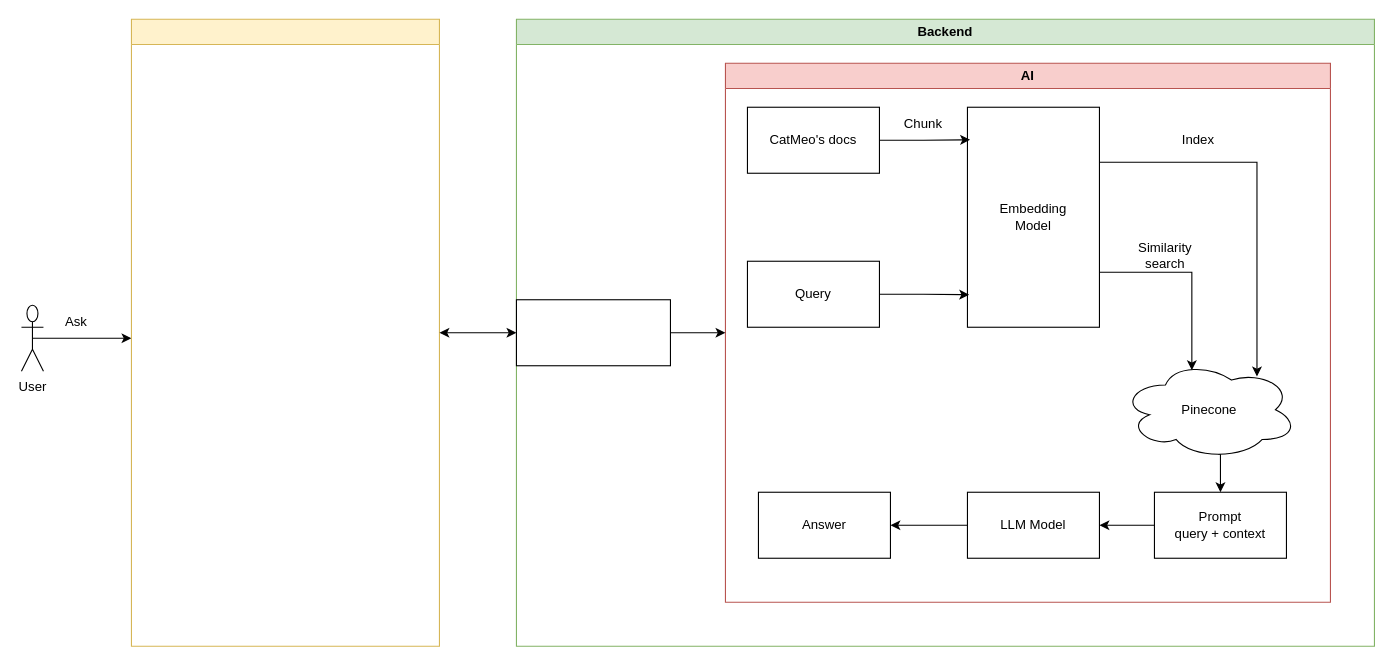
Some shapes in this 1394 by 666 pixel diagram are drawn without their labels. Each missing label, with the box of its shape:
API post: (515, 299, 670, 366)
Frontend: (130, 18, 439, 646)
